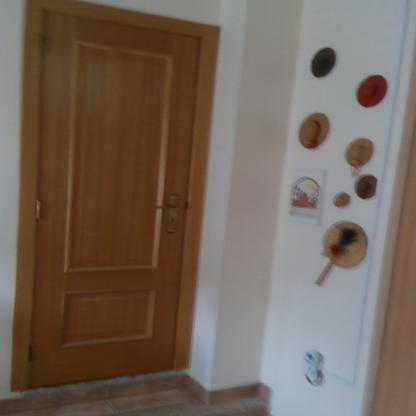door: (38, 11, 182, 372)
hinged: (27, 340, 37, 364), (37, 32, 47, 54), (33, 199, 43, 220)
lever: (150, 202, 183, 212)
